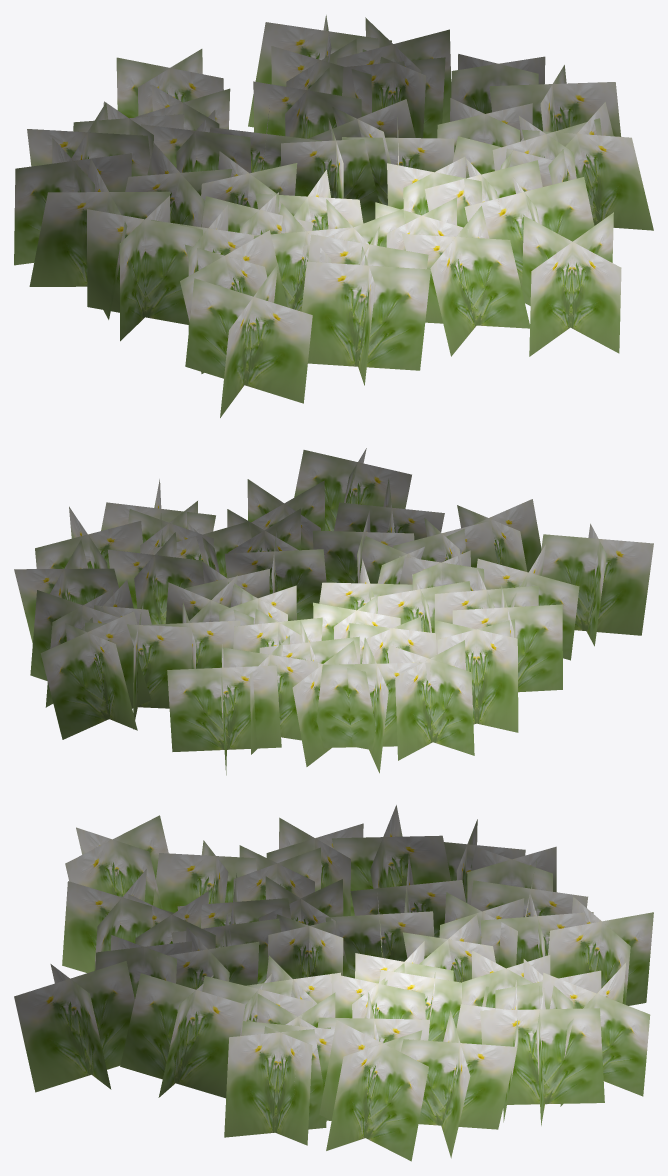
Rendered from flowers.obj.
3 renders of one model, top to bottom at view 1: azimuth 30°, elevation 25°; view 2: azimuth 150°, elevation 25°; view 3: azimuth 270°, elevation 25°, orthographic. The views are drawn at different scales.
Parts seen in each view (by area): view 1: tree; view 2: tree; view 3: tree.
Part boxes in pixels (<box>): tree: <box>14,15,653,417</box>; tree: <box>14,448,653,775</box>; tree: <box>14,805,653,1161</box>.
Bounding box in the file's own units: 85.55 × 17.26 × 90.31.
Materials: 1 (1 with a texture image).
